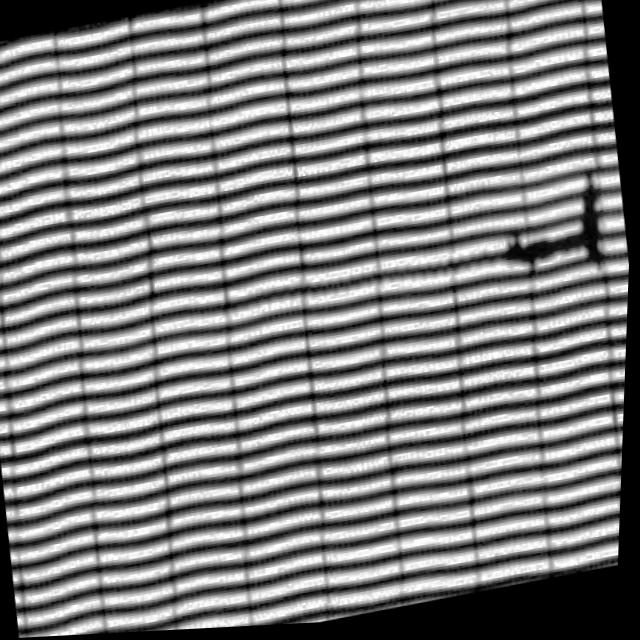Stitch: (493, 168, 621, 308)
